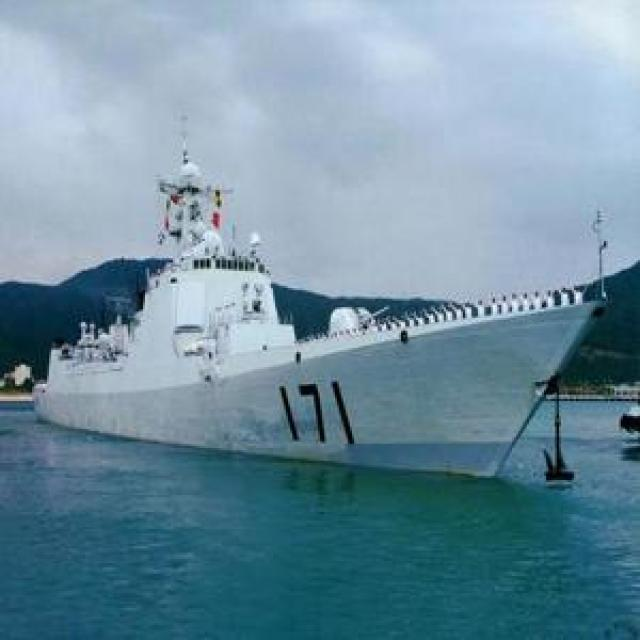navalvessels: (28, 147, 602, 498)
